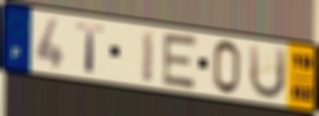0: (211, 40, 243, 95)
4: (34, 17, 66, 72)
E: (160, 31, 201, 92)
I: (141, 27, 157, 85)
T: (75, 22, 107, 76)
U: (247, 42, 288, 101)
